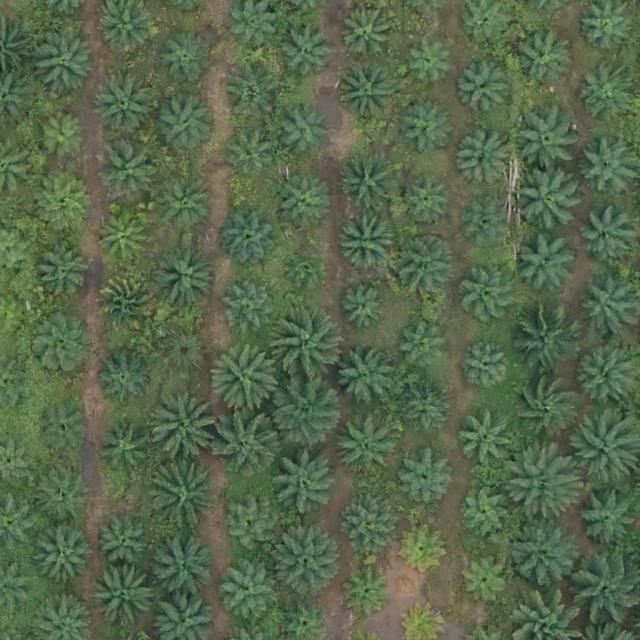Healthy: (512, 168, 583, 239), (510, 374, 580, 445), (512, 308, 582, 379), (274, 311, 344, 382), (270, 379, 340, 450), (270, 448, 341, 518), (271, 525, 342, 595), (214, 408, 285, 478), (148, 394, 218, 465), (145, 465, 216, 535), (507, 517, 577, 587), (507, 445, 577, 515), (212, 343, 282, 413), (337, 212, 400, 275), (334, 413, 397, 476), (220, 208, 283, 271), (34, 169, 97, 232), (154, 89, 217, 152), (510, 32, 573, 95), (575, 483, 637, 546), (520, 233, 582, 296), (457, 411, 519, 474), (391, 233, 453, 296), (334, 347, 396, 410), (153, 244, 215, 307), (151, 538, 213, 601), (93, 568, 155, 631), (30, 314, 93, 376), (36, 29, 98, 92), (96, 137, 158, 200), (93, 75, 155, 138), (153, 172, 215, 235), (337, 63, 399, 126), (339, 151, 401, 214), (520, 110, 582, 173), (572, 347, 634, 409), (577, 134, 639, 196), (458, 339, 513, 395), (578, 208, 633, 263), (579, 281, 634, 336), (463, 271, 518, 326), (398, 382, 453, 437), (397, 316, 452, 371), (154, 327, 209, 382), (37, 399, 92, 454), (95, 418, 150, 473), (456, 552, 511, 607), (342, 494, 397, 549), (221, 569, 276, 624), (223, 284, 278, 339), (32, 244, 87, 299), (95, 212, 150, 267), (98, 351, 153, 406), (98, 512, 153, 567), (37, 106, 92, 161), (158, 33, 213, 88), (223, 129, 278, 184), (225, 69, 280, 124), (281, 26, 336, 81), (276, 106, 331, 161), (400, 174, 455, 229), (400, 100, 455, 155), (458, 66, 513, 121), (578, 3, 633, 58), (458, 488, 512, 543), (397, 451, 451, 506), (225, 500, 279, 555), (36, 468, 90, 523), (38, 531, 92, 586), (280, 179, 334, 234), (341, 9, 395, 64), (405, 35, 459, 90), (457, 133, 511, 188), (577, 69, 631, 124)
Small: (341, 285, 388, 332), (346, 567, 393, 614), (466, 202, 513, 249), (285, 250, 324, 289)
Yellow: (99, 273, 161, 335), (402, 527, 449, 574)
